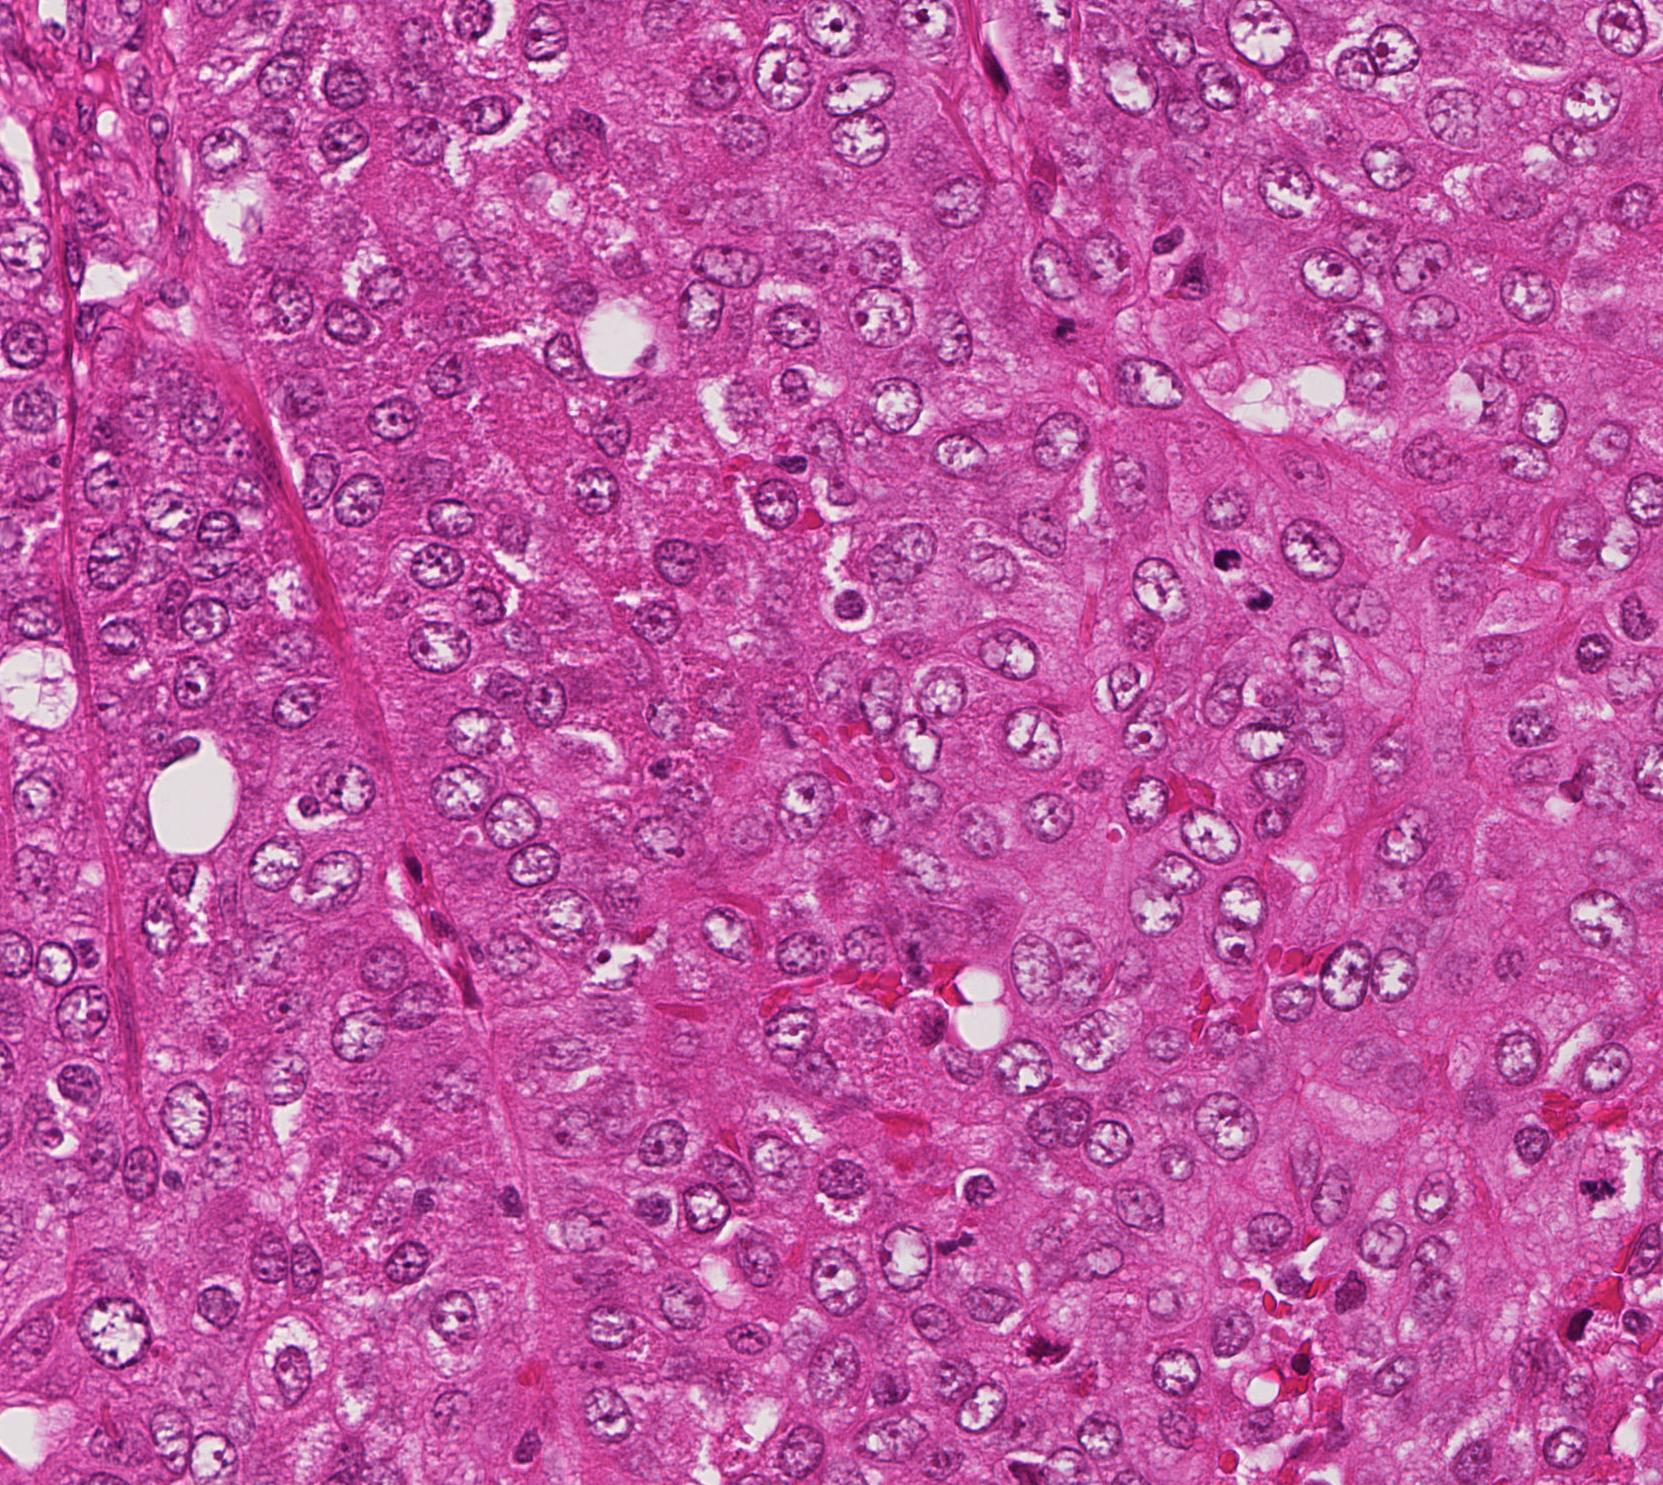mitosis: (1201, 540, 1262, 601), (1026, 292, 1087, 353), (1015, 1309, 1075, 1369), (1576, 1152, 1634, 1213)
